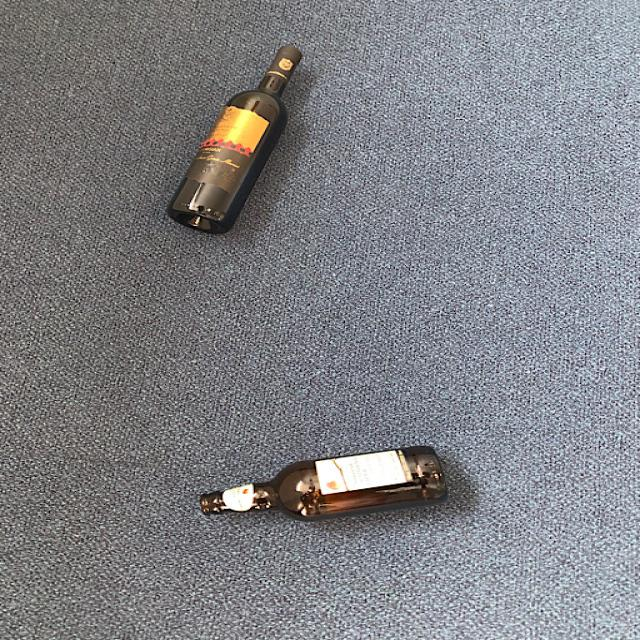litter: (171, 42, 315, 237), (194, 444, 465, 522)
